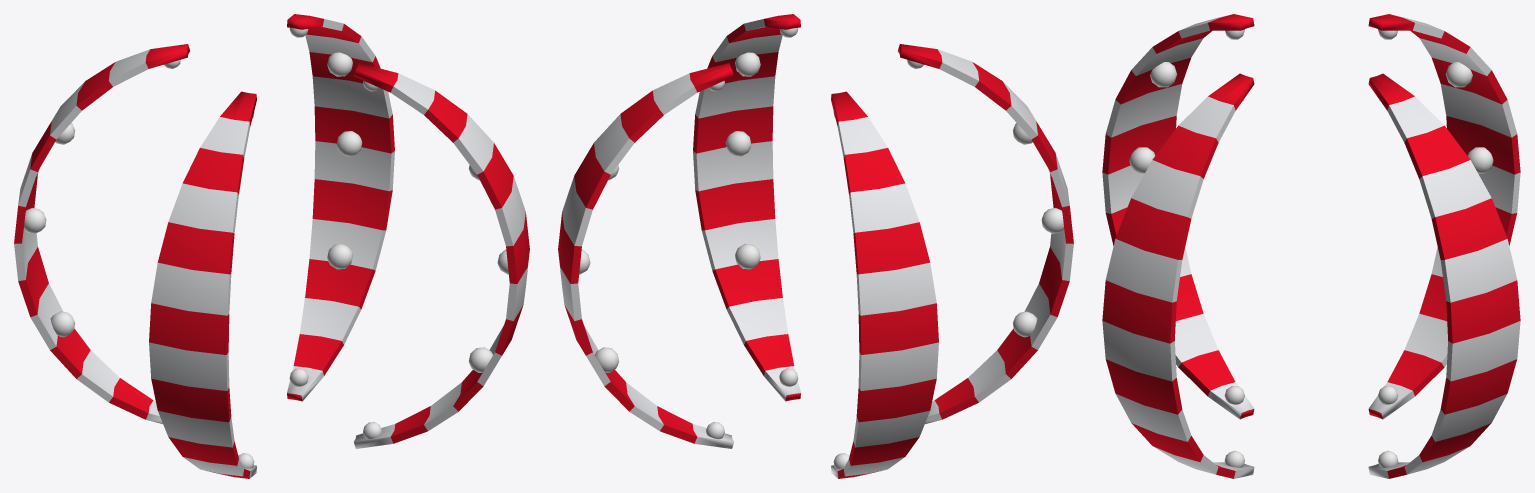
File: ADORNO CON LUCES.fbx
The picture shows the model from 3 angles, left to right: view 1: azimuth 30°, elevation 25°; view 2: azimuth 150°, elevation 25°; view 3: azimuth 270°, elevation 25°; orthographic projection. The views are drawn at different scales.
Visible parts, largest first — view 1: Adorno con Luces; view 2: Adorno con Luces; view 3: Adorno con Luces.
Boxes of the visible parts, box(x1,y1,x2,y2) form: Adorno con Luces: box(14, 14, 529, 478); Adorno con Luces: box(558, 14, 1073, 478); Adorno con Luces: box(1102, 14, 1520, 478).
Bounding box in the file's own units: 1379 × 1312 × 1253.
